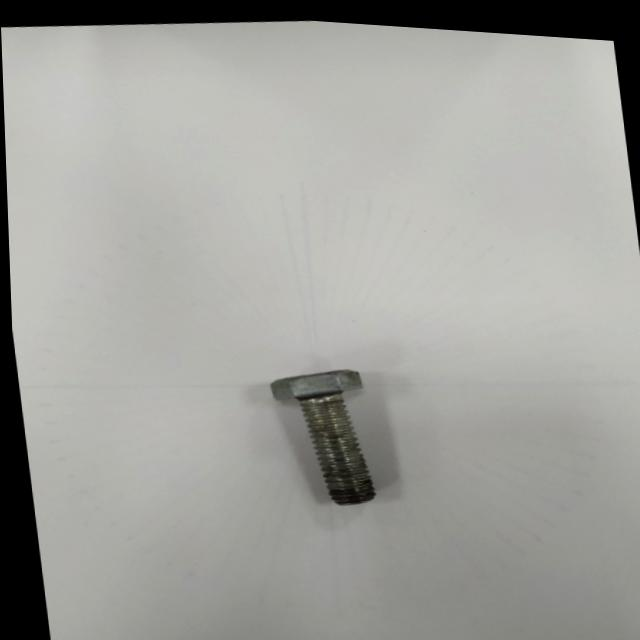Bolt: (268, 365, 370, 499)
